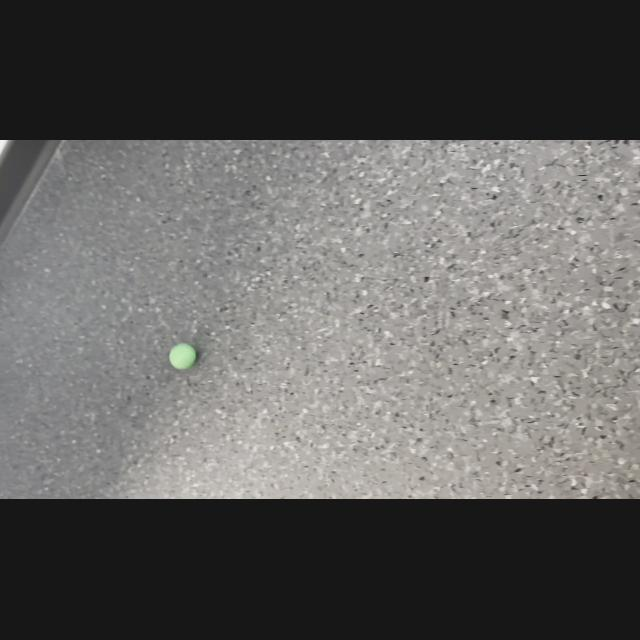objects: (167, 339, 200, 373)
